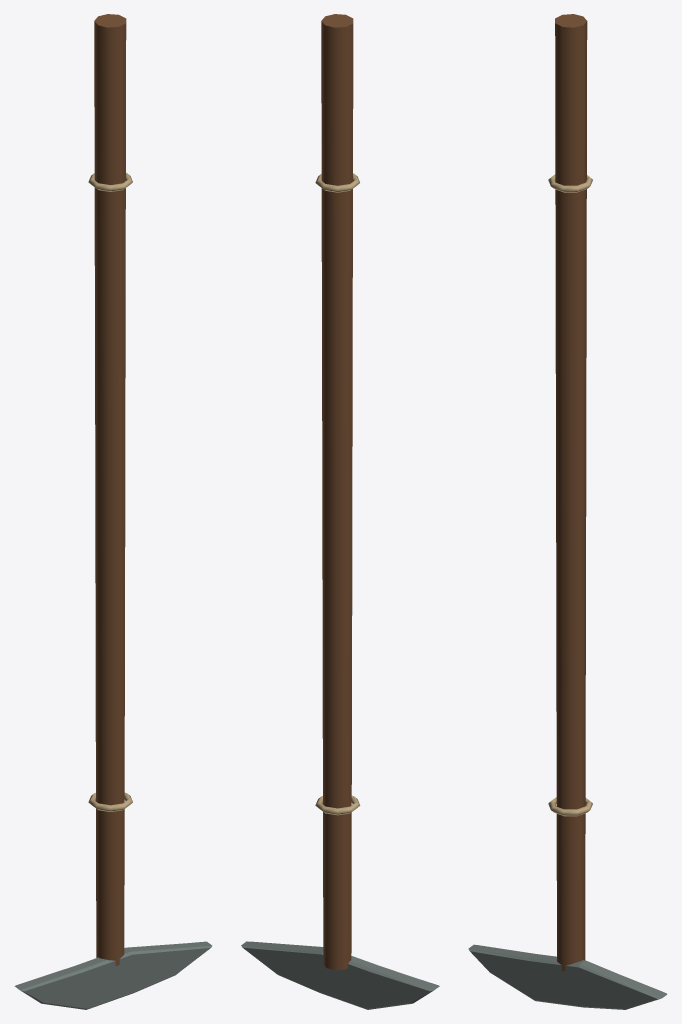
The model's file is stone_digger.glb.
3 views of the same model, side by side, from view 1: azimuth 30°, elevation 25°; view 2: azimuth 150°, elevation 25°; view 3: azimuth 330°, elevation 25° (orthographic).
Visible parts, largest first — view 1: part_0, part_2, part_1; view 2: part_0, part_2, part_1; view 3: part_0, part_2, part_1.
Boxes of the visible parts, <box> form: part_0: <box>94,14,126,965</box>; part_2: <box>14,941,212,1009</box>; part_1: <box>88,173,132,811</box>; part_0: <box>321,14,353,970</box>; part_2: <box>241,941,439,1009</box>; part_1: <box>315,173,360,815</box>; part_0: <box>555,14,587,971</box>; part_2: <box>468,944,667,1009</box>; part_1: <box>548,174,592,816</box>.
Size of the model in its own units: 0.176 by 0.8534 by 0.0355.
